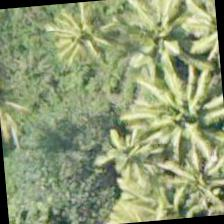Kelapa_Sawit: (85, 111, 182, 210), (36, 0, 134, 90), (138, 72, 223, 170), (115, 0, 213, 82), (151, 141, 223, 221)
